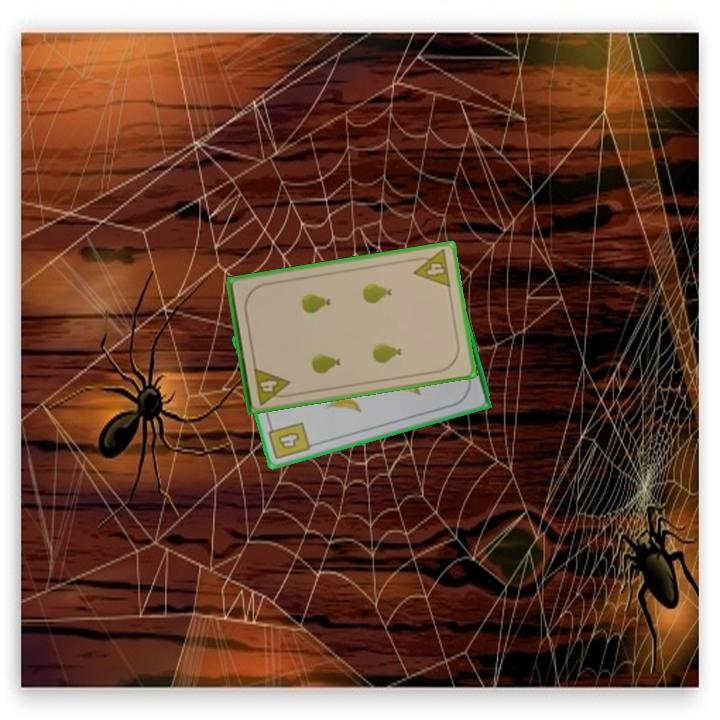4b: (265, 419, 313, 463)
4p: (408, 246, 453, 290), (250, 363, 294, 408)
